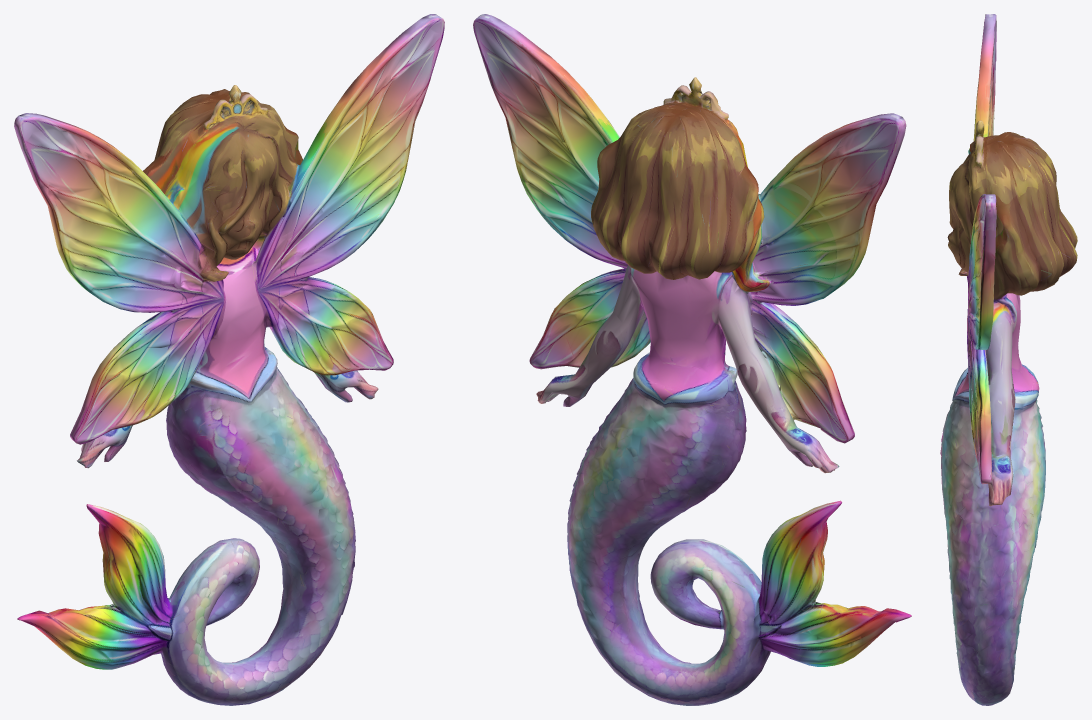
File: static.glb
3 renders of one model, left to right at view 1: azimuth 30°, elevation 25°; view 2: azimuth 150°, elevation 25°; view 3: azimuth 270°, elevation 25°, orthographic. The views are drawn at different scales.
Parts seen in each view (by area): view 1: Mesh_0; view 2: Mesh_0; view 3: Mesh_0.
Boxes of the visible parts, left/top/right/bottom form: Mesh_0: left=14, top=14, right=444, bottom=705; Mesh_0: left=473, top=14, right=911, bottom=705; Mesh_0: left=940, top=14, right=1077, bottom=705.
Bounding box in the file's own units: 1.33 × 1.9 × 0.4042.
Materials: 1 (1 with a texture image).
